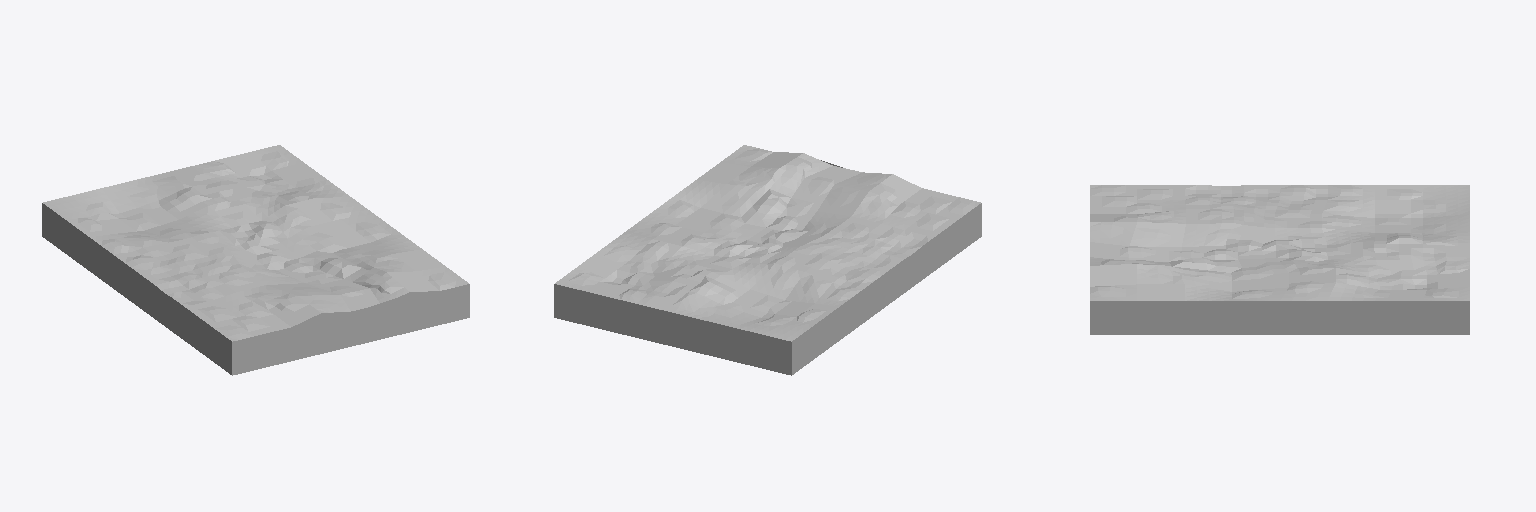
Rendered from Exported Environment.obj.
The picture shows the model from 3 angles: view 1: azimuth 30°, elevation 25°; view 2: azimuth 150°, elevation 25°; view 3: azimuth 270°, elevation 25°; orthographic projection.
Visible parts, largest first — view 1: Exported Environment; view 2: Exported Environment; view 3: Exported Environment.
Boxes of the visible parts, <box> form: Exported Environment: <box>42,145,469,375</box>; Exported Environment: <box>554,145,981,375</box>; Exported Environment: <box>1090,185,1469,334</box>.
Size of the model in its own units: 121 by 20.71 by 168.